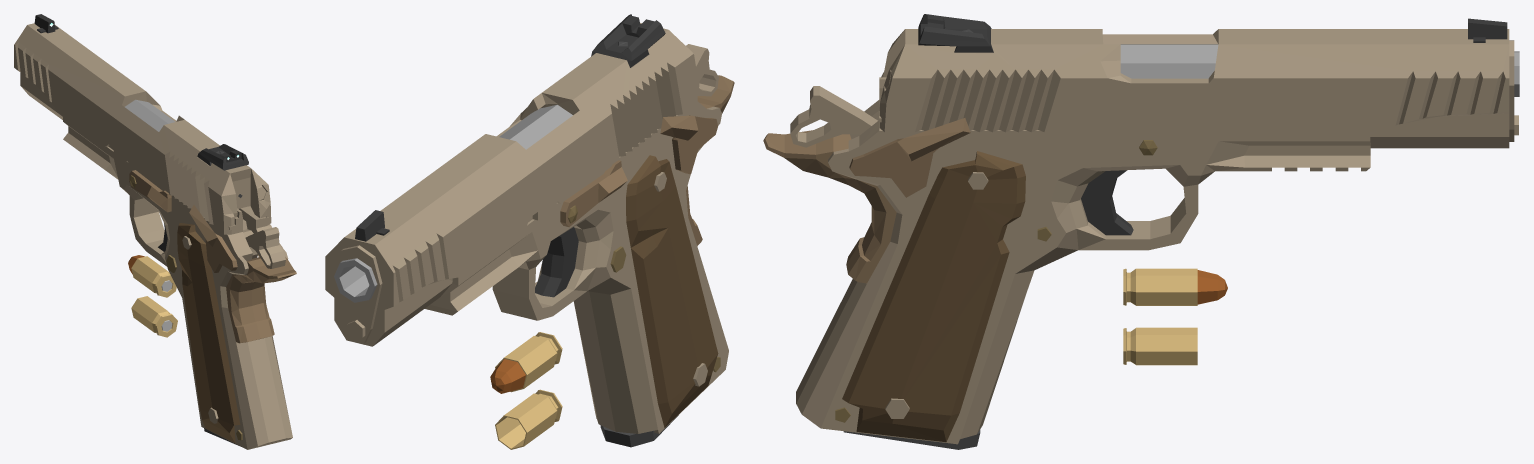
3 renders of one model, left to right at view 1: azimuth 30°, elevation 25°; view 2: azimuth 150°, elevation 25°; view 3: azimuth 270°, elevation 25°, orthographic. The views are drawn at different scales.
Visible parts, largest first — view 1: Frame_0, Slide_1, 9mm_8, Safety_6, 9mm_casing_9, Hammer_5, Slide_lock_7, Barrel_4; view 2: Slide_1, Frame_0, Barrel_4, 9mm_8, 9mm_casing_9, Safety_6, Trigger_2, Slide_lock_7, Hammer_5, Magazine_3; view 3: Frame_0, Slide_1, Safety_6, 9mm_8, Barrel_4, Hammer_5, 9mm_casing_9, Trigger_2.
Part boxes in pixels (left/top/right/bottom): Frame_0: left=63, top=117, right=296, bottom=449; Slide_1: left=14, top=14, right=271, bottom=234; 9mm_8: left=128, top=255, right=176, bottom=297; Safety_6: left=189, top=205, right=282, bottom=272; 9mm_casing_9: left=131, top=296, right=177, bottom=337; Hammer_5: left=243, top=227, right=285, bottom=268; Slide_lock_7: left=129, top=170, right=171, bottom=212; Barrel_4: left=125, top=99, right=174, bottom=131; Slide_1: left=325, top=14, right=697, bottom=346; Frame_0: left=424, top=75, right=734, bottom=433; Barrel_4: left=334, top=104, right=572, bottom=302; 9mm_8: left=490, top=332, right=562, bottom=393; 9mm_casing_9: left=495, top=389, right=562, bottom=449; Safety_6: left=660, top=115, right=717, bottom=174; Trigger_2: left=535, top=227, right=578, bottom=297; Slide_lock_7: left=560, top=160, right=627, bottom=227; Hammer_5: left=686, top=44, right=718, bottom=96; Magazine_3: left=600, top=415, right=678, bottom=447; Frame_0: left=763, top=77, right=1370, bottom=444; Slide_1: left=879, top=14, right=1518, bottom=148; Safety_6: left=849, top=118, right=970, bottom=197; 9mm_8: left=1123, top=268, right=1227, bottom=305; Barrel_4: left=1120, top=44, right=1519, bottom=96; Hammer_5: left=790, top=86, right=877, bottom=147; 9mm_casing_9: left=1123, top=327, right=1197, bottom=365; Trigger_2: left=1081, top=170, right=1133, bottom=235.
Size of the model in its own units: 0.0333 by 0.1417 by 0.2313.
